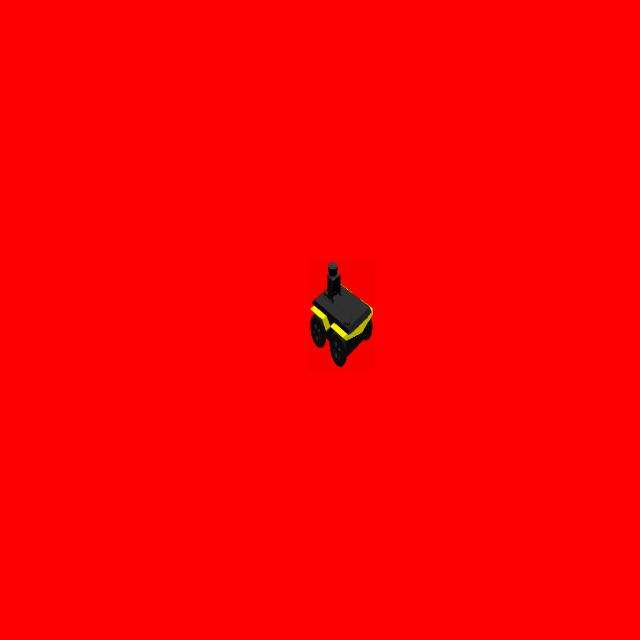jackal: (308, 259, 375, 371)
